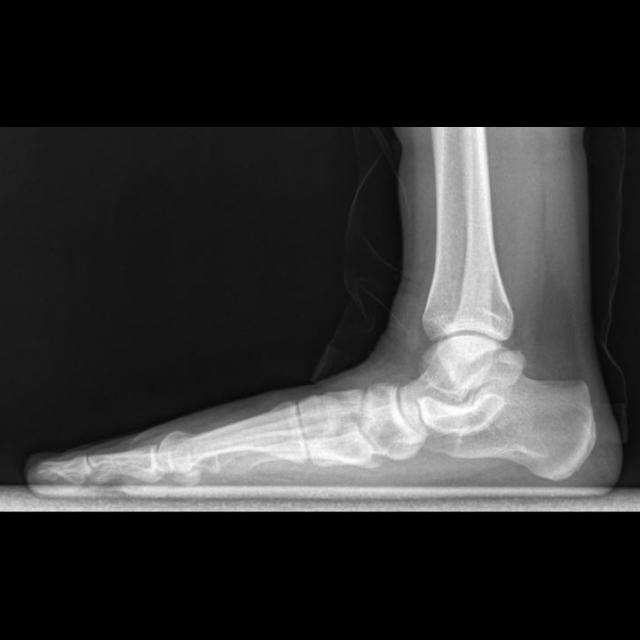a: (408, 375, 592, 479)
b: (359, 383, 418, 458)
c: (154, 400, 308, 474)
